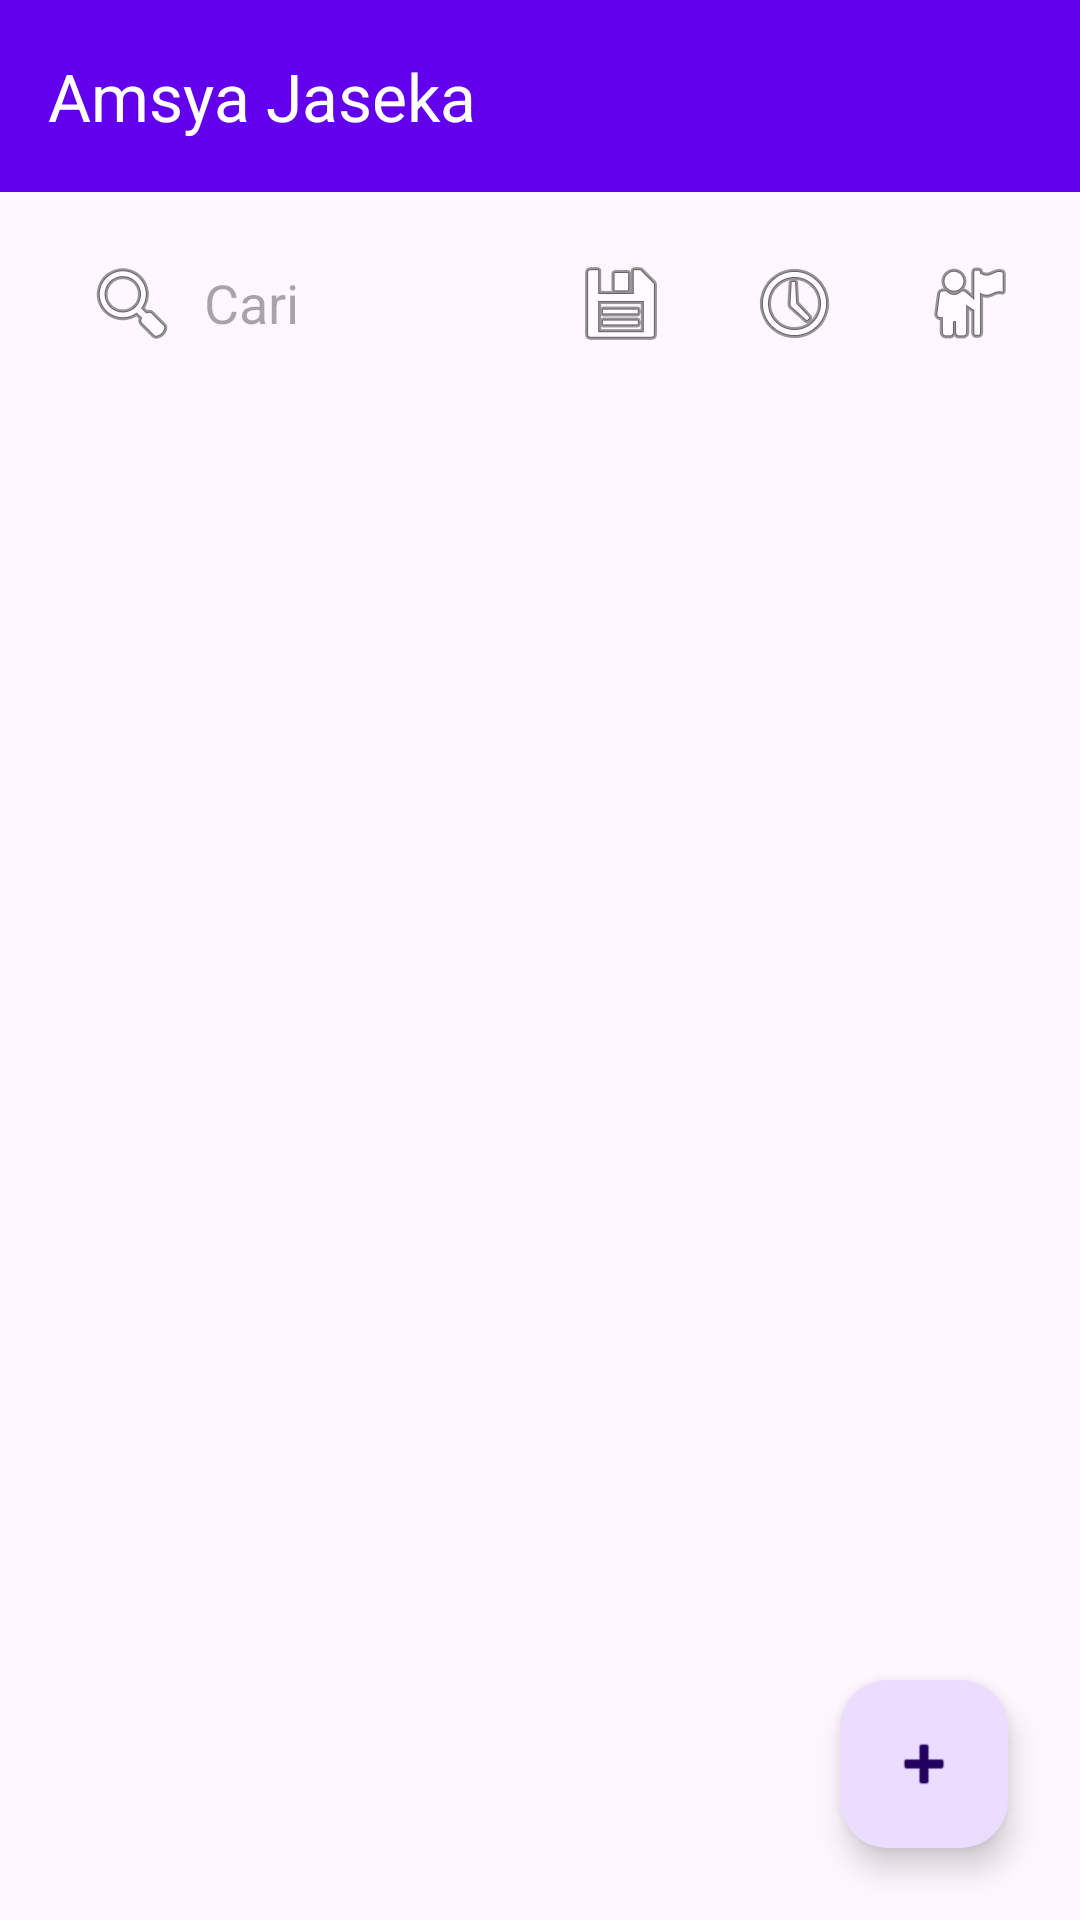

Icons on this 1080w x 1920h Android screen, each with the point to tap as (x,y):
Laporan: (970,303)
Riwayat: (794,303)
Tambah Pesanan: (924,1764)
